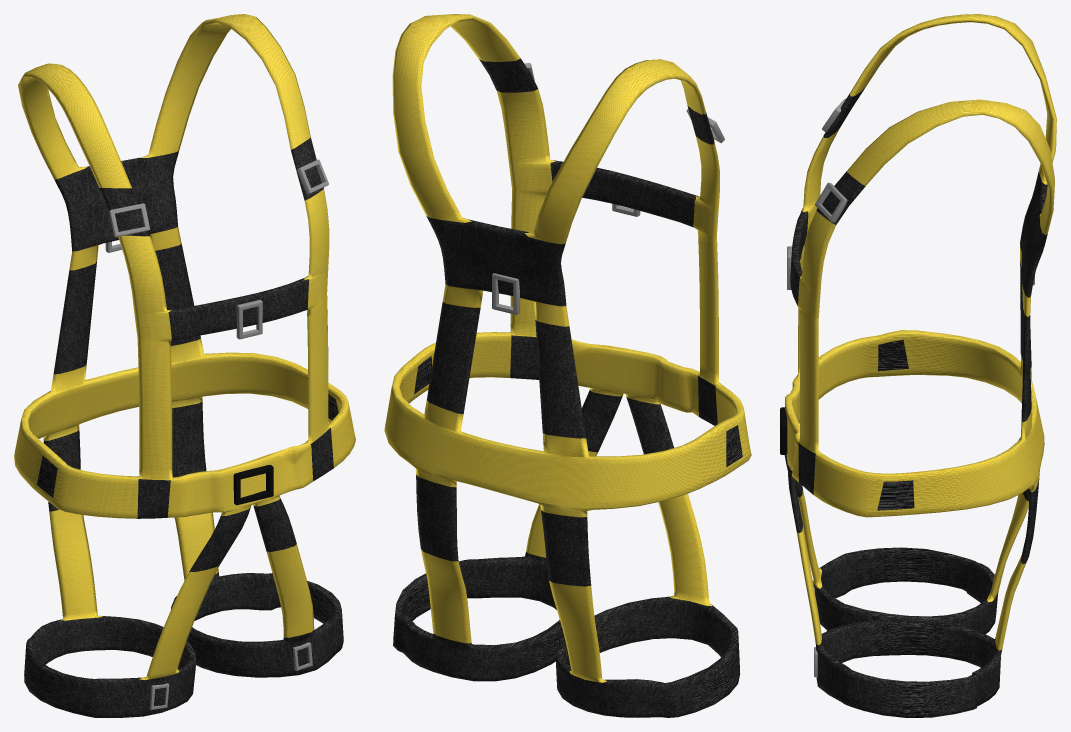
Rendered from ARNES SEGURIDAD.FBX.
3 views of the same model, side by side, from view 1: azimuth 30°, elevation 25°; view 2: azimuth 150°, elevation 25°; view 3: azimuth 270°, elevation 25° (orthographic). The views are drawn at different scales.
Parts seen in each view (by area): view 1: arness, Box001, Box005, Box007; view 2: arness, Box008; view 3: arness, Box006.
Part boxes in pixels (x1,y1,x2,y2): arness: (14, 14, 355, 717); Box001: (233, 465, 273, 505); Box005: (236, 300, 262, 339); Box007: (109, 203, 150, 237); arness: (384, 14, 751, 717); Box008: (492, 273, 519, 314); arness: (784, 14, 1056, 717); Box006: (815, 182, 847, 222).
Size of the model in its own units: 45.98 by 88.46 by 37.25.
